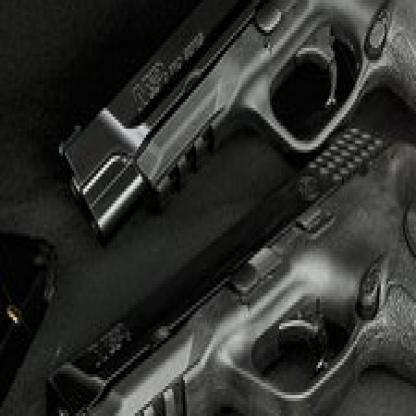gun: (44, 123, 414, 413), (44, 0, 415, 264)
